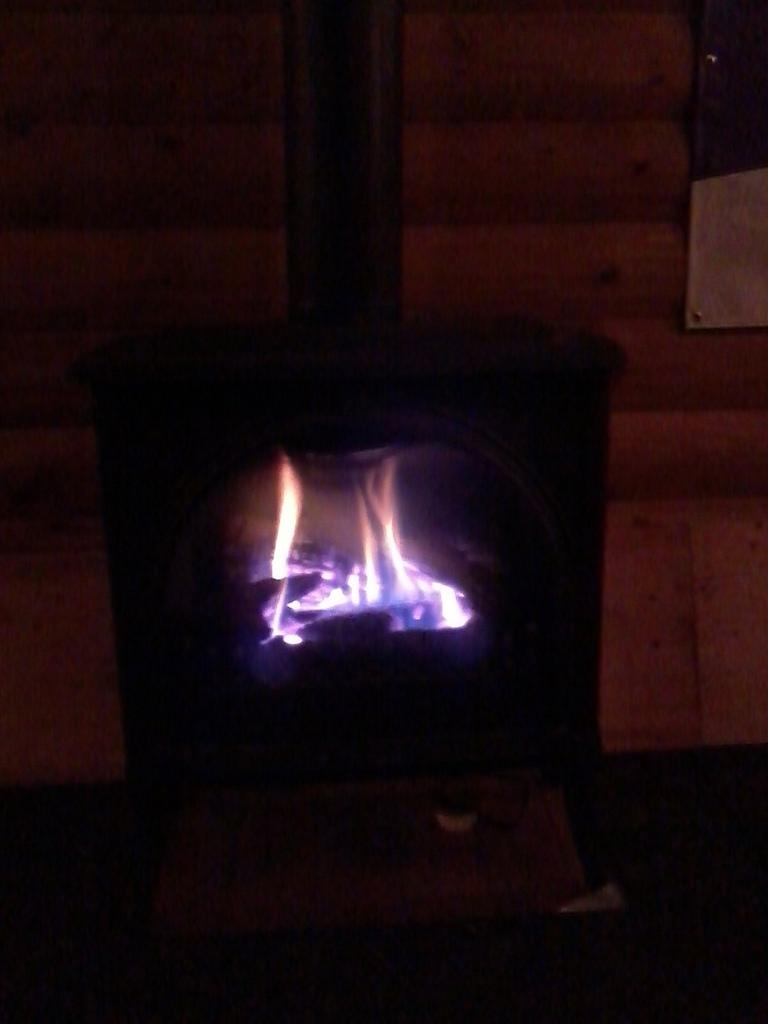fire: (265, 460, 448, 630)
